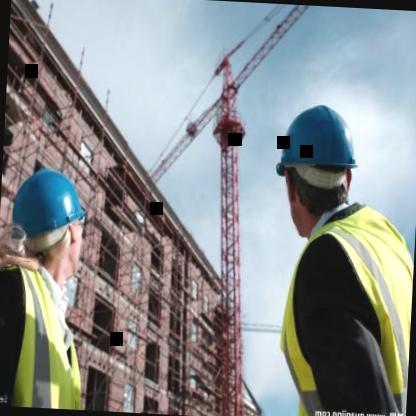helmet: (264, 92, 364, 242), (6, 156, 94, 284)
